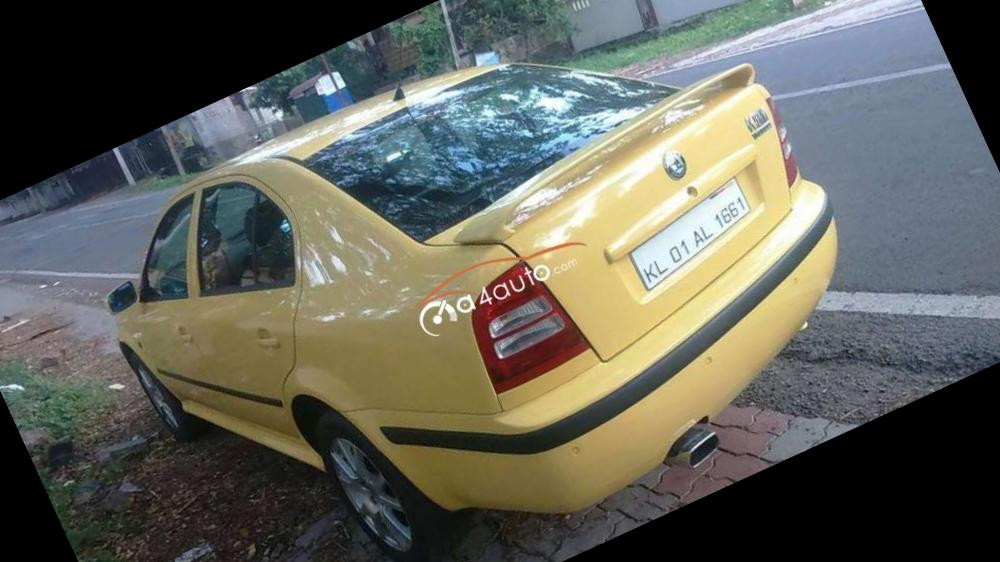plate: (599, 170, 786, 303)
